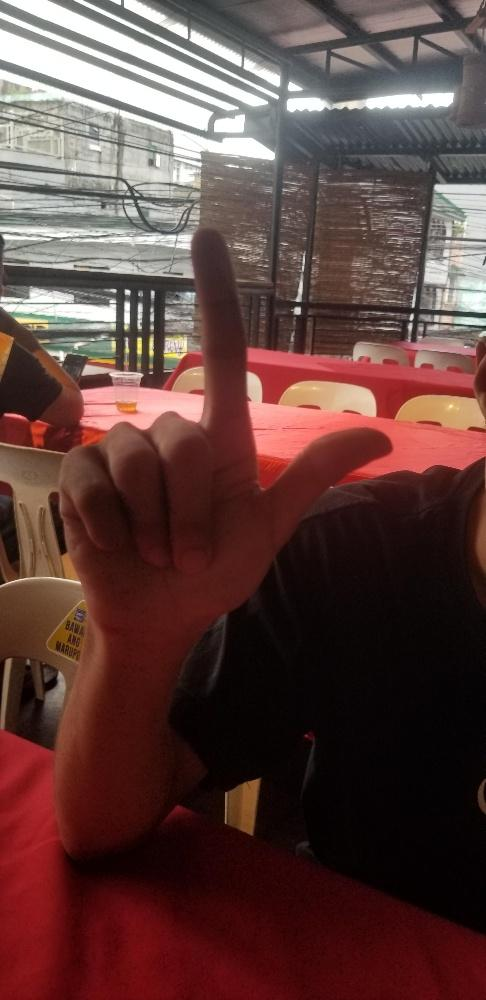l: (52, 221, 397, 642)
